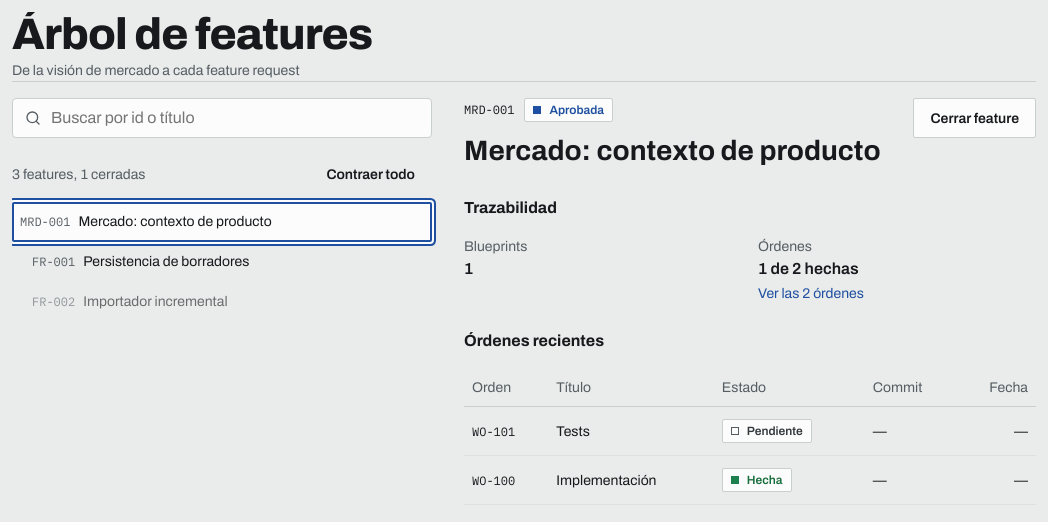
ProjectGraph (árbol de features) › buscador en la URL (SDD-083) › writes ?q= to the URL, reads it on mount, and clears the param (D1)
Expected: the list item "FR-002 Importador incremental" is shown, [32,294,228,309]
Type "Importador" into the search field labelled "Buscar por id o título" at (236, 118), box [49,105,423,131]
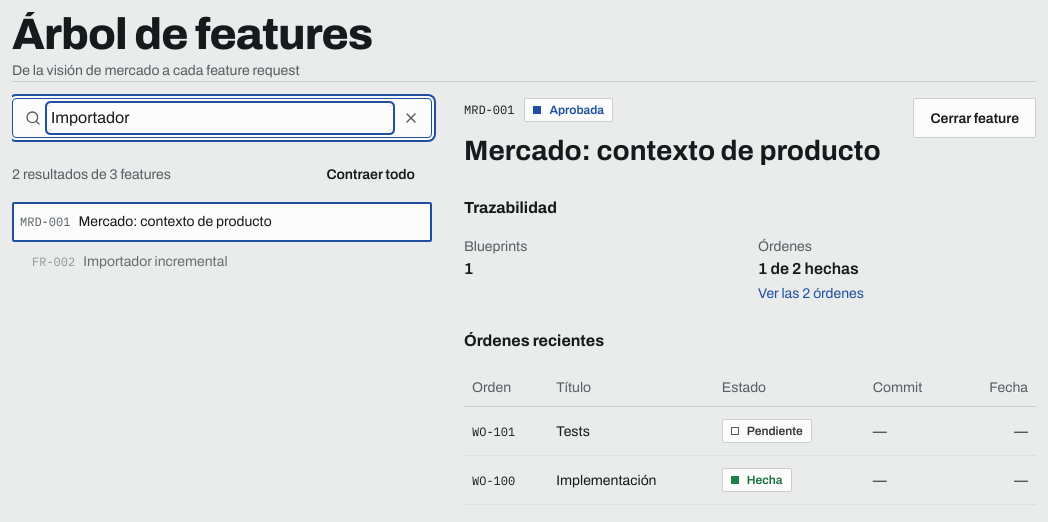
Result: the text "FR-001" is gone
Click the button named "Borrar búsqueda" at (411, 118), box [399,106,423,130]
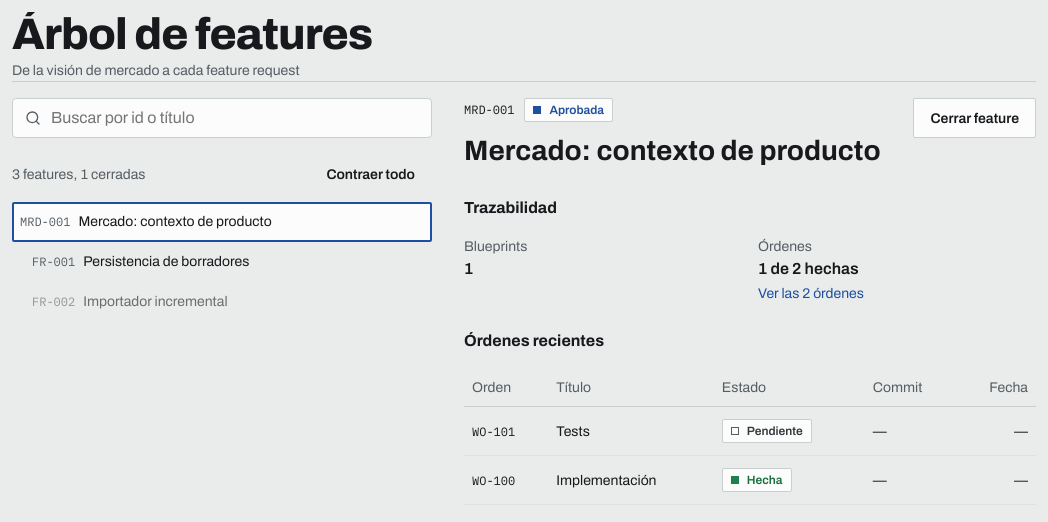
Result: the list item "FR-001 Persistencia de borradores" is shown at [32,254,249,269]
